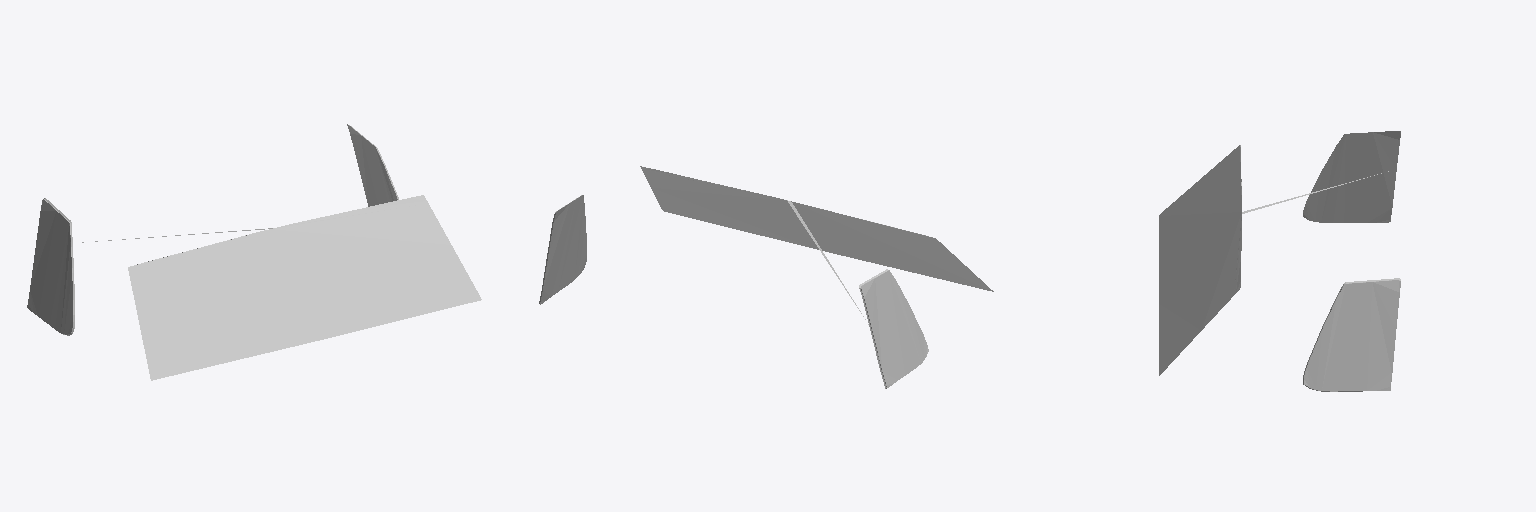
The model's file is rearwindow.obj.
3 renders of one model, left to right at view 1: azimuth 30°, elevation 25°; view 2: azimuth 150°, elevation 25°; view 3: azimuth 270°, elevation 25°, orthographic.
Parts seen in each view (by area): view 1: TintedWindows_Plane; view 2: TintedWindows_Plane; view 3: TintedWindows_Plane.
Part boxes in pixels (left/top/right/bottom): TintedWindows_Plane: left=27, top=124, right=481, bottom=380; TintedWindows_Plane: left=539, top=166, right=993, bottom=388; TintedWindows_Plane: left=1159, top=131, right=1400, bottom=391.
Bounding box in the file's own units: 1.27 × 0.3607 × 0.7685.